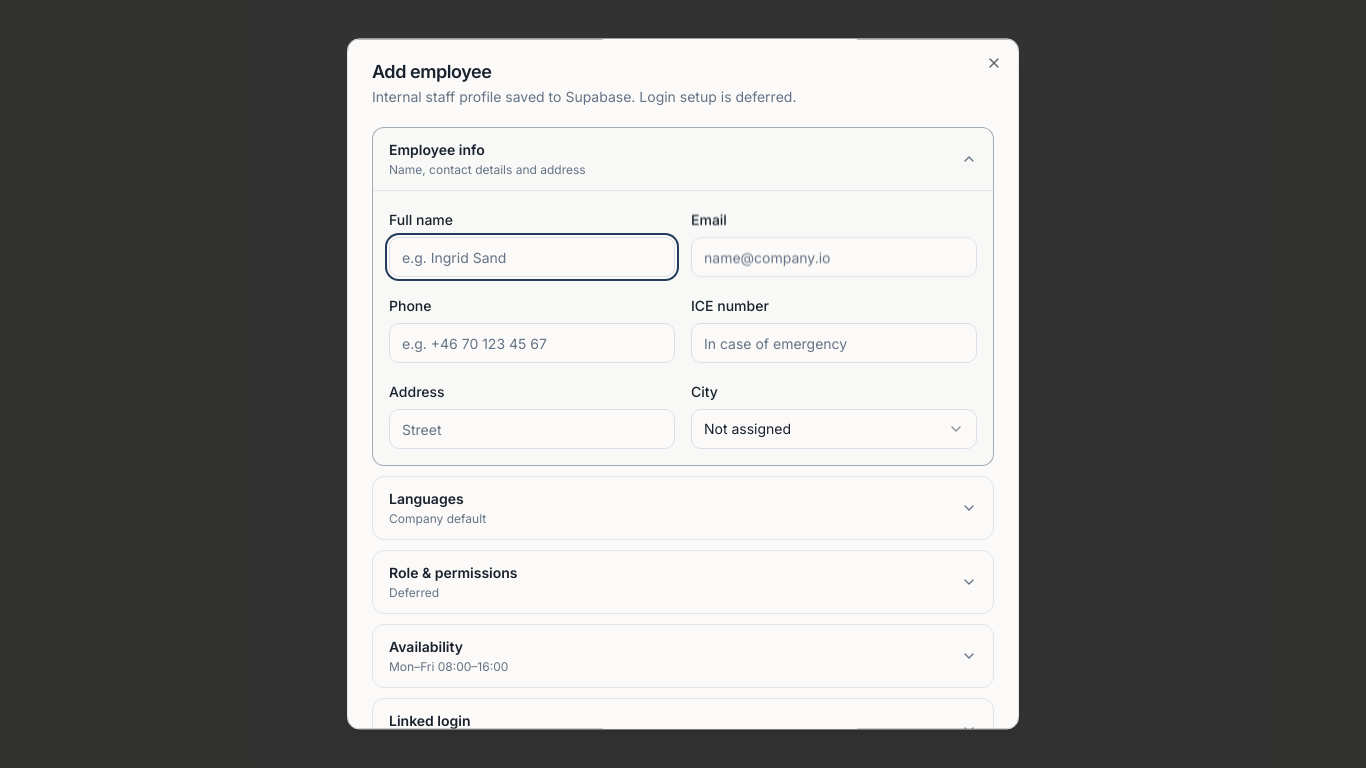
Test: EmployeeDialog EMP-A1 submit path › keeps the dialog open and shows an error when Supabase create fails
Type "Nora Nyberg" into the field labelled "Full name" at (532, 257), box [389, 237, 675, 277]
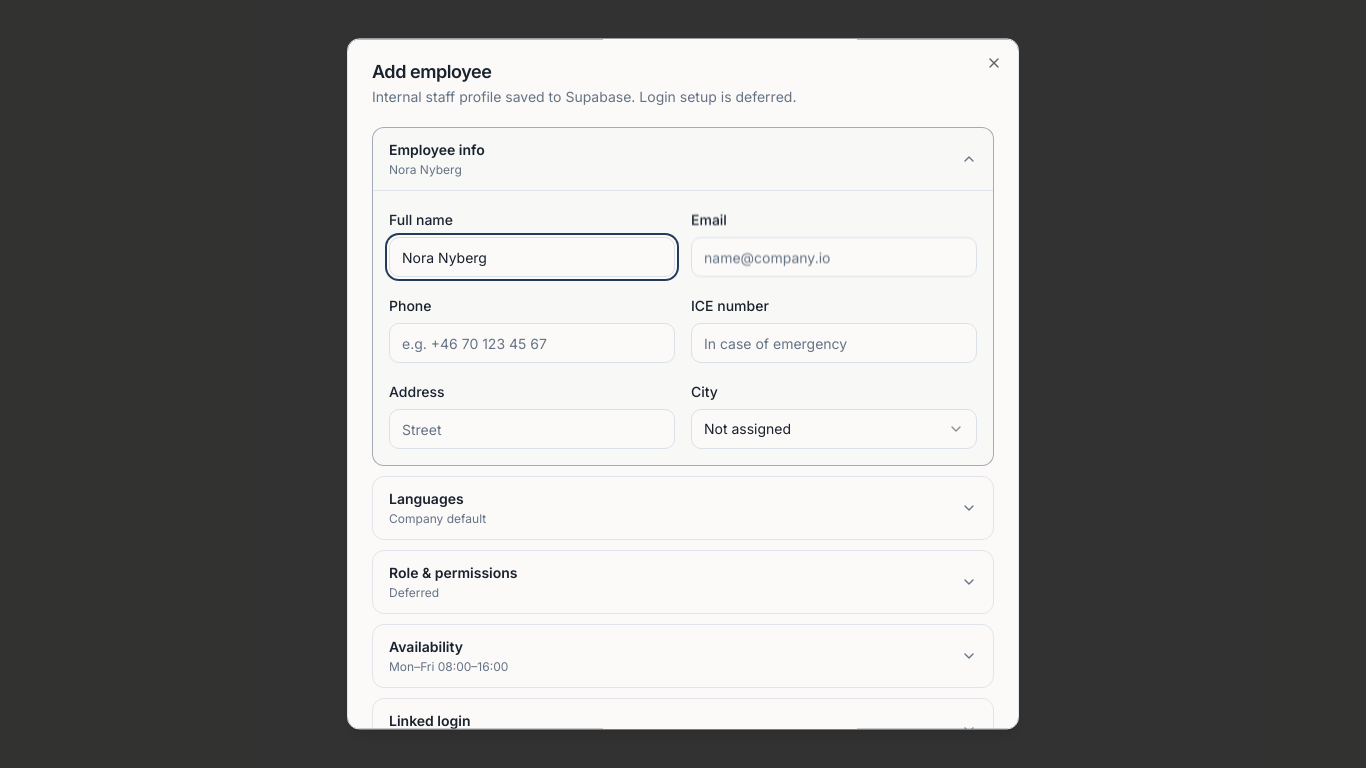
Type "nora@example.com" into the field labelled "Email" at (834, 257), box [691, 237, 977, 277]
(page scrolled)
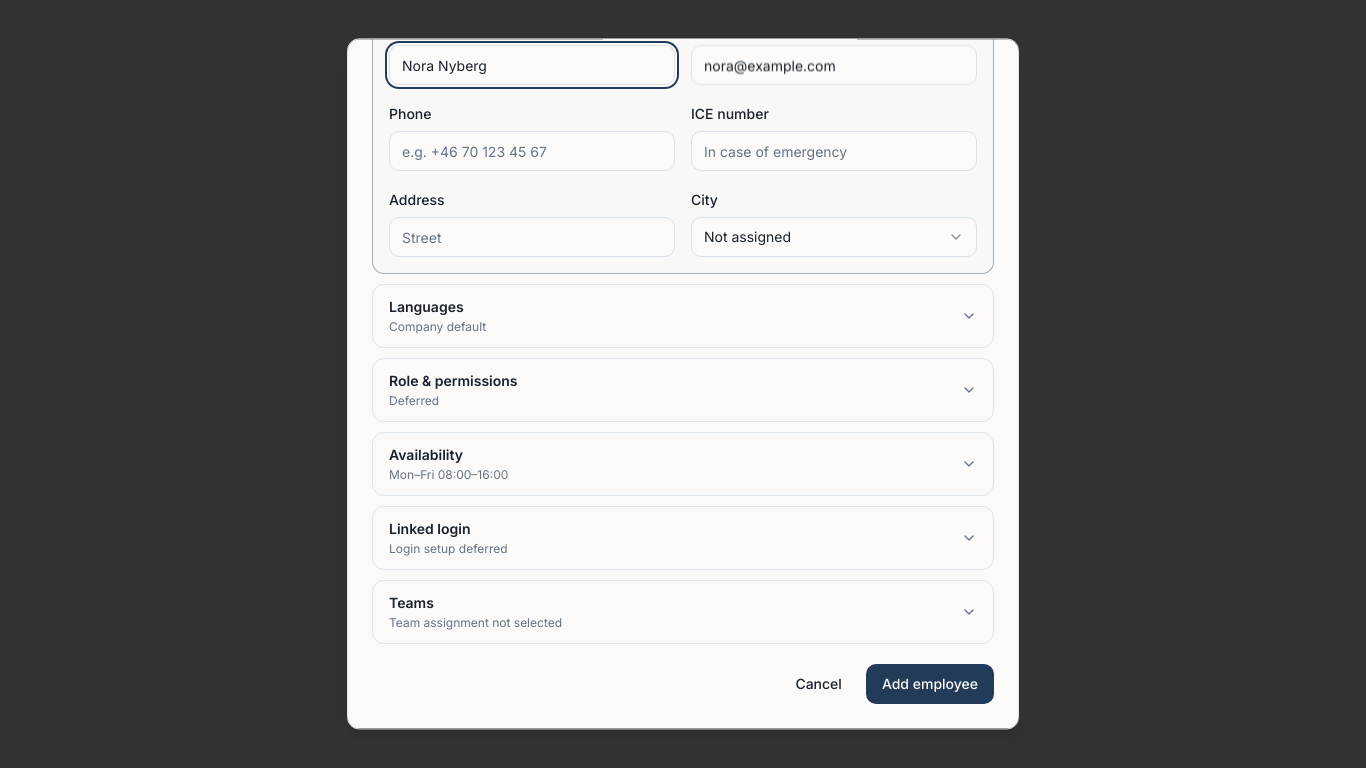
Click the button "Add employee" at (930, 684), box [866, 664, 994, 704]
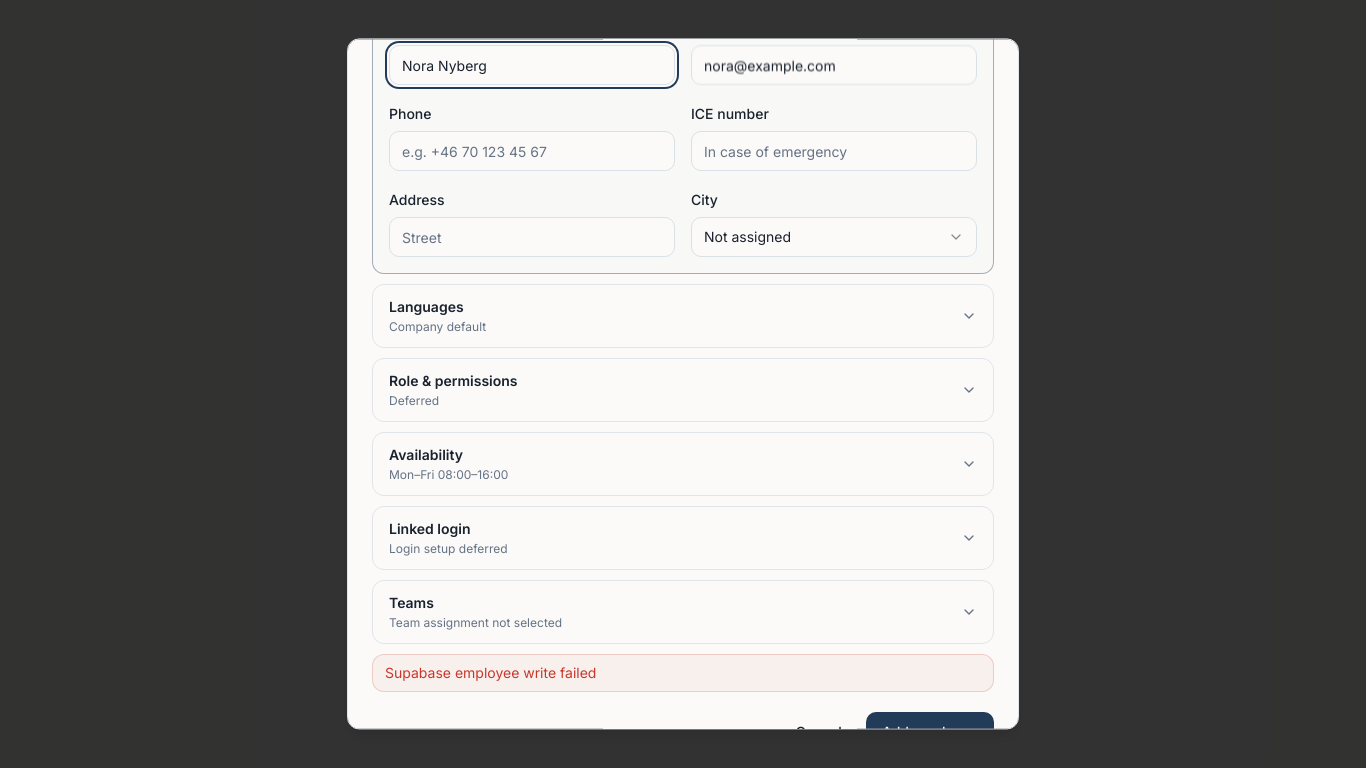
Expected: the text "Supabase employee write failed" is shown, [372, 654, 994, 692]
